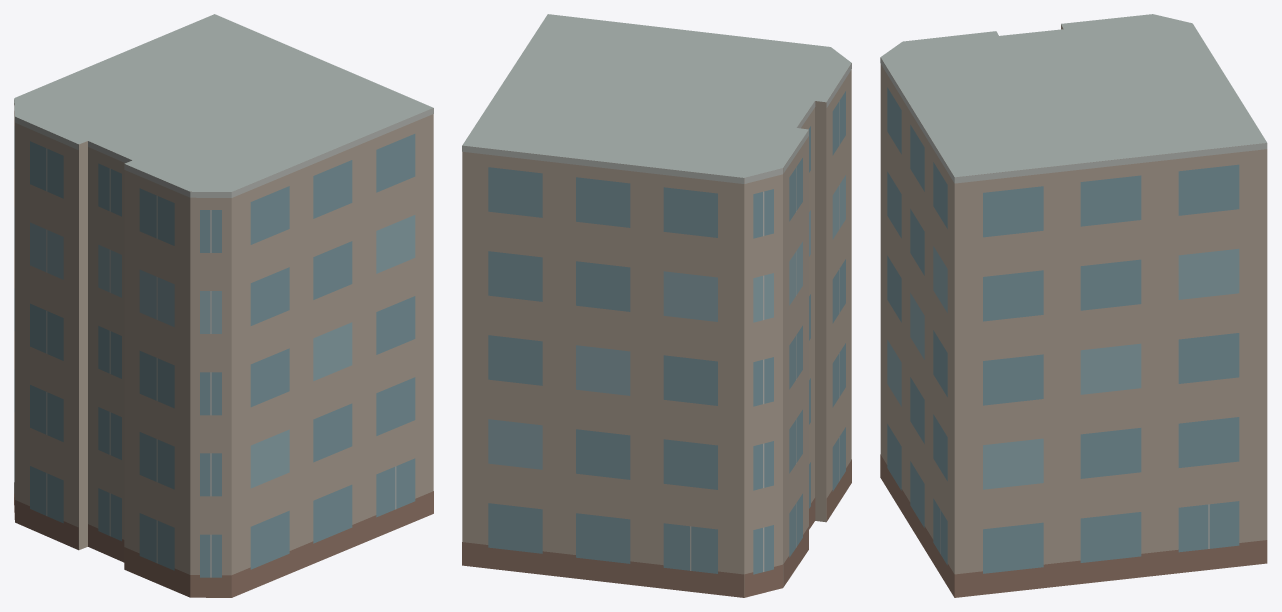
Rendered from survey-upis-32950526.glb.
3 renders of one model, left to right at view 1: azimuth 30°, elevation 25°; view 2: azimuth 150°, elevation 25°; view 3: azimuth 270°, elevation 25°, orthographic. The views are drawn at different scales.
Parts seen in each view (by area): view 1: survey-upis-32950526.tmp; view 2: survey-upis-32950526.tmp; view 3: survey-upis-32950526.tmp.
Boxes of the visible parts, x1=… form: survey-upis-32950526.tmp: x1=14, y1=14, x2=433, y2=597; survey-upis-32950526.tmp: x1=462, y1=14, x2=851, y2=597; survey-upis-32950526.tmp: x1=880, y1=14, x2=1267, y2=597.
Size of the model in its own units: 13.75 by 16.5 by 13.77.
